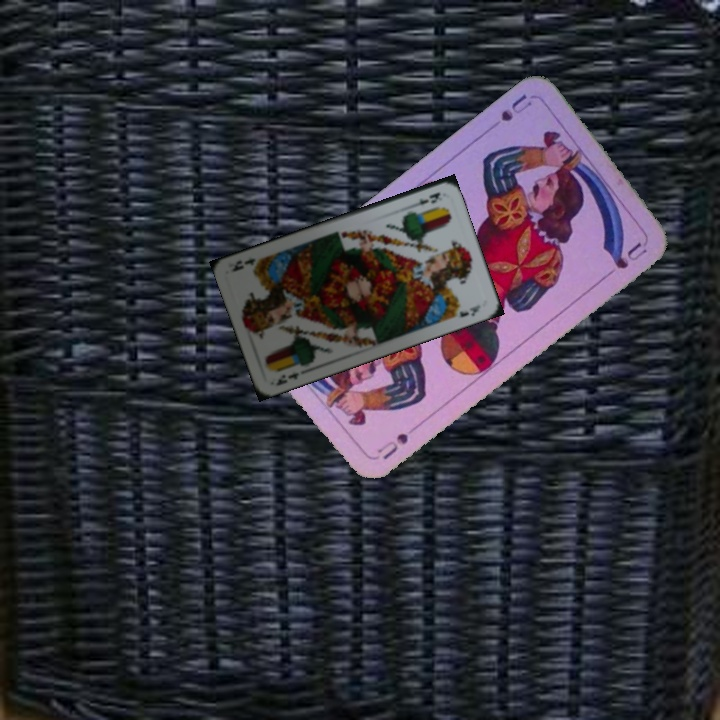EK: (406, 188, 445, 211), (272, 368, 302, 388)
SU: (482, 90, 534, 135), (373, 428, 411, 462)
